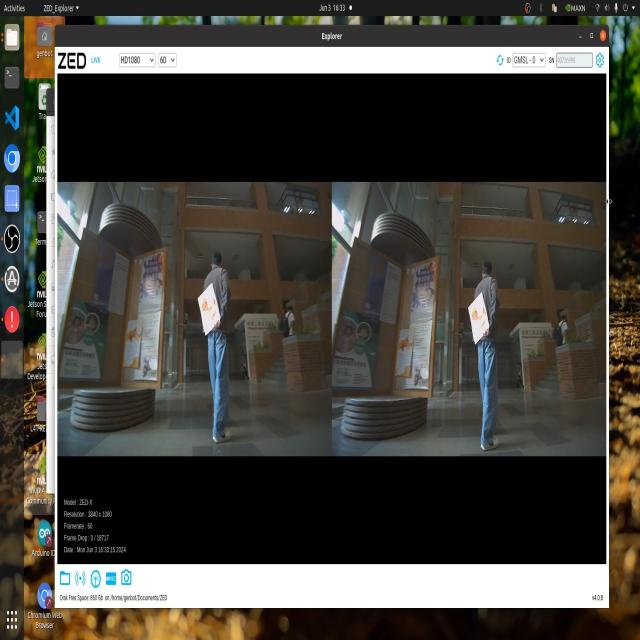red: (468, 300, 490, 342), (198, 295, 222, 332)
